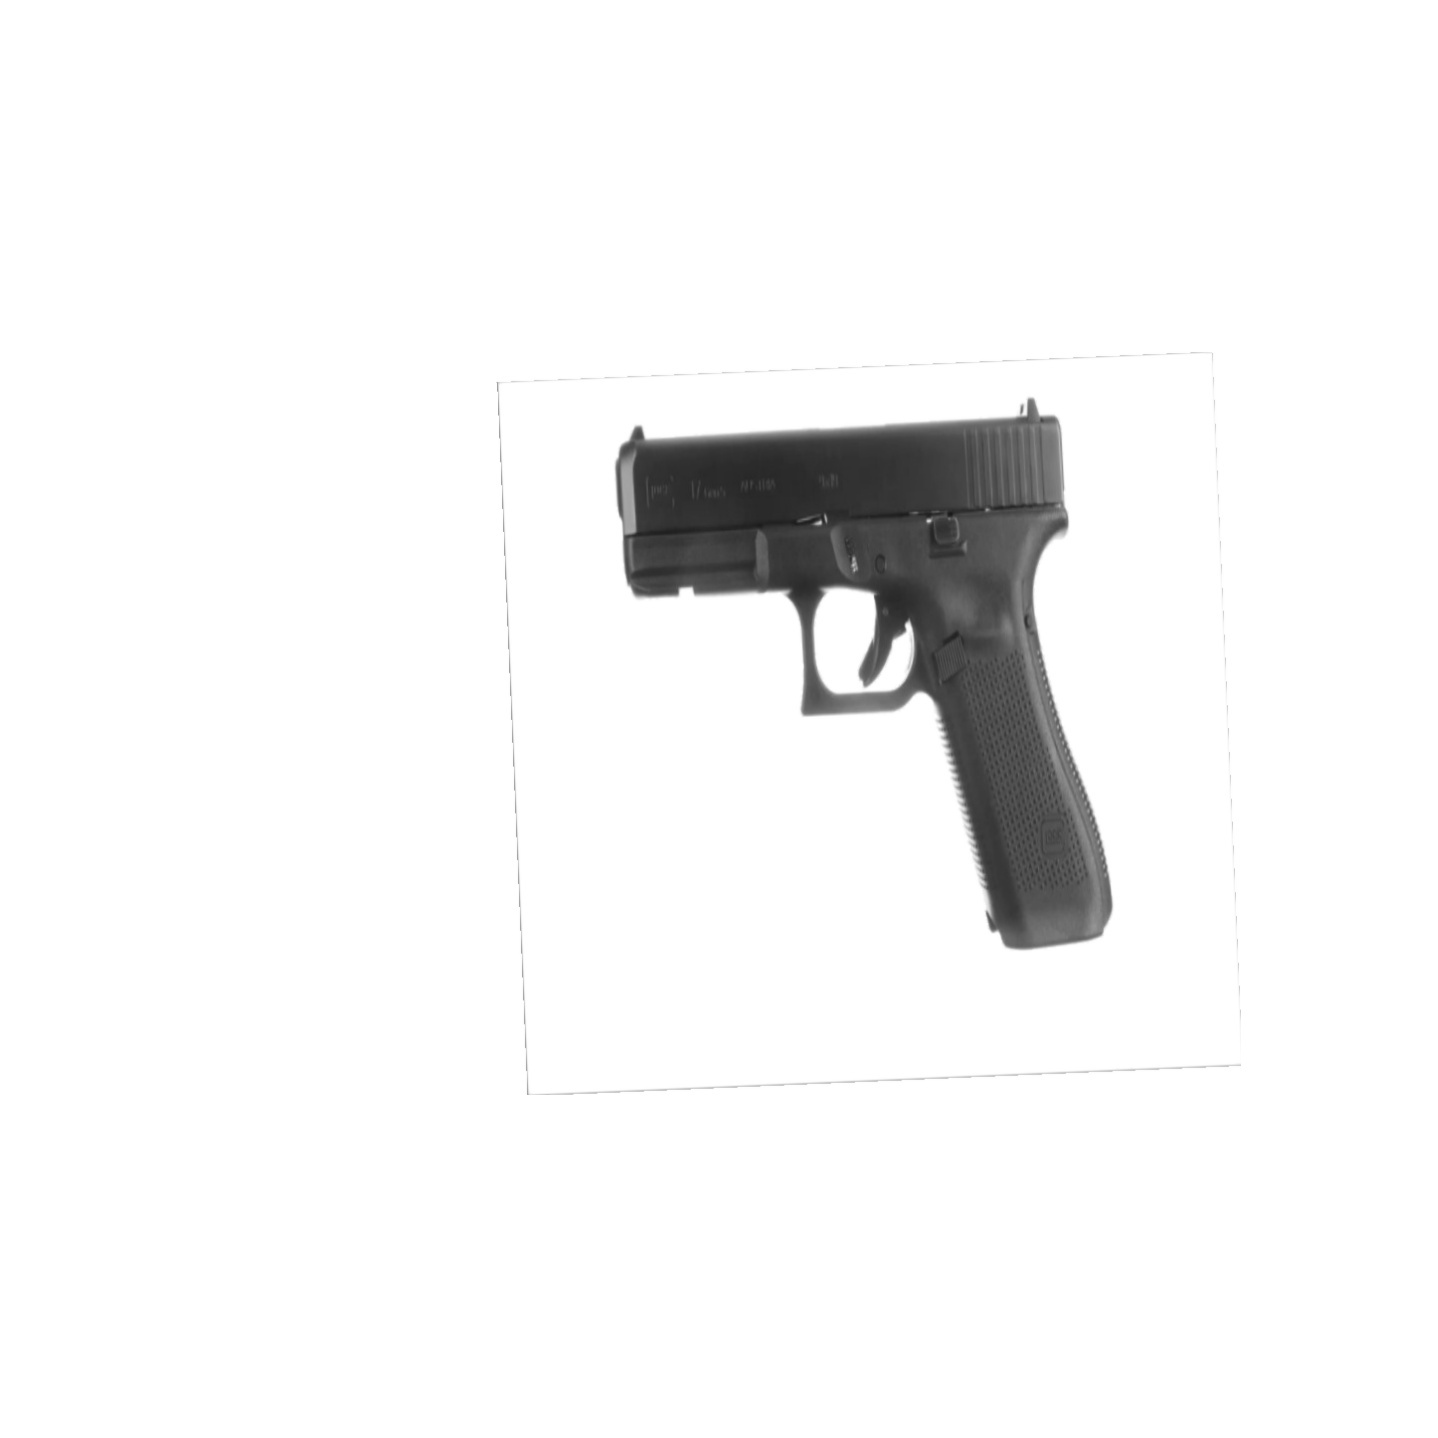gun: (612, 392, 1118, 953)
